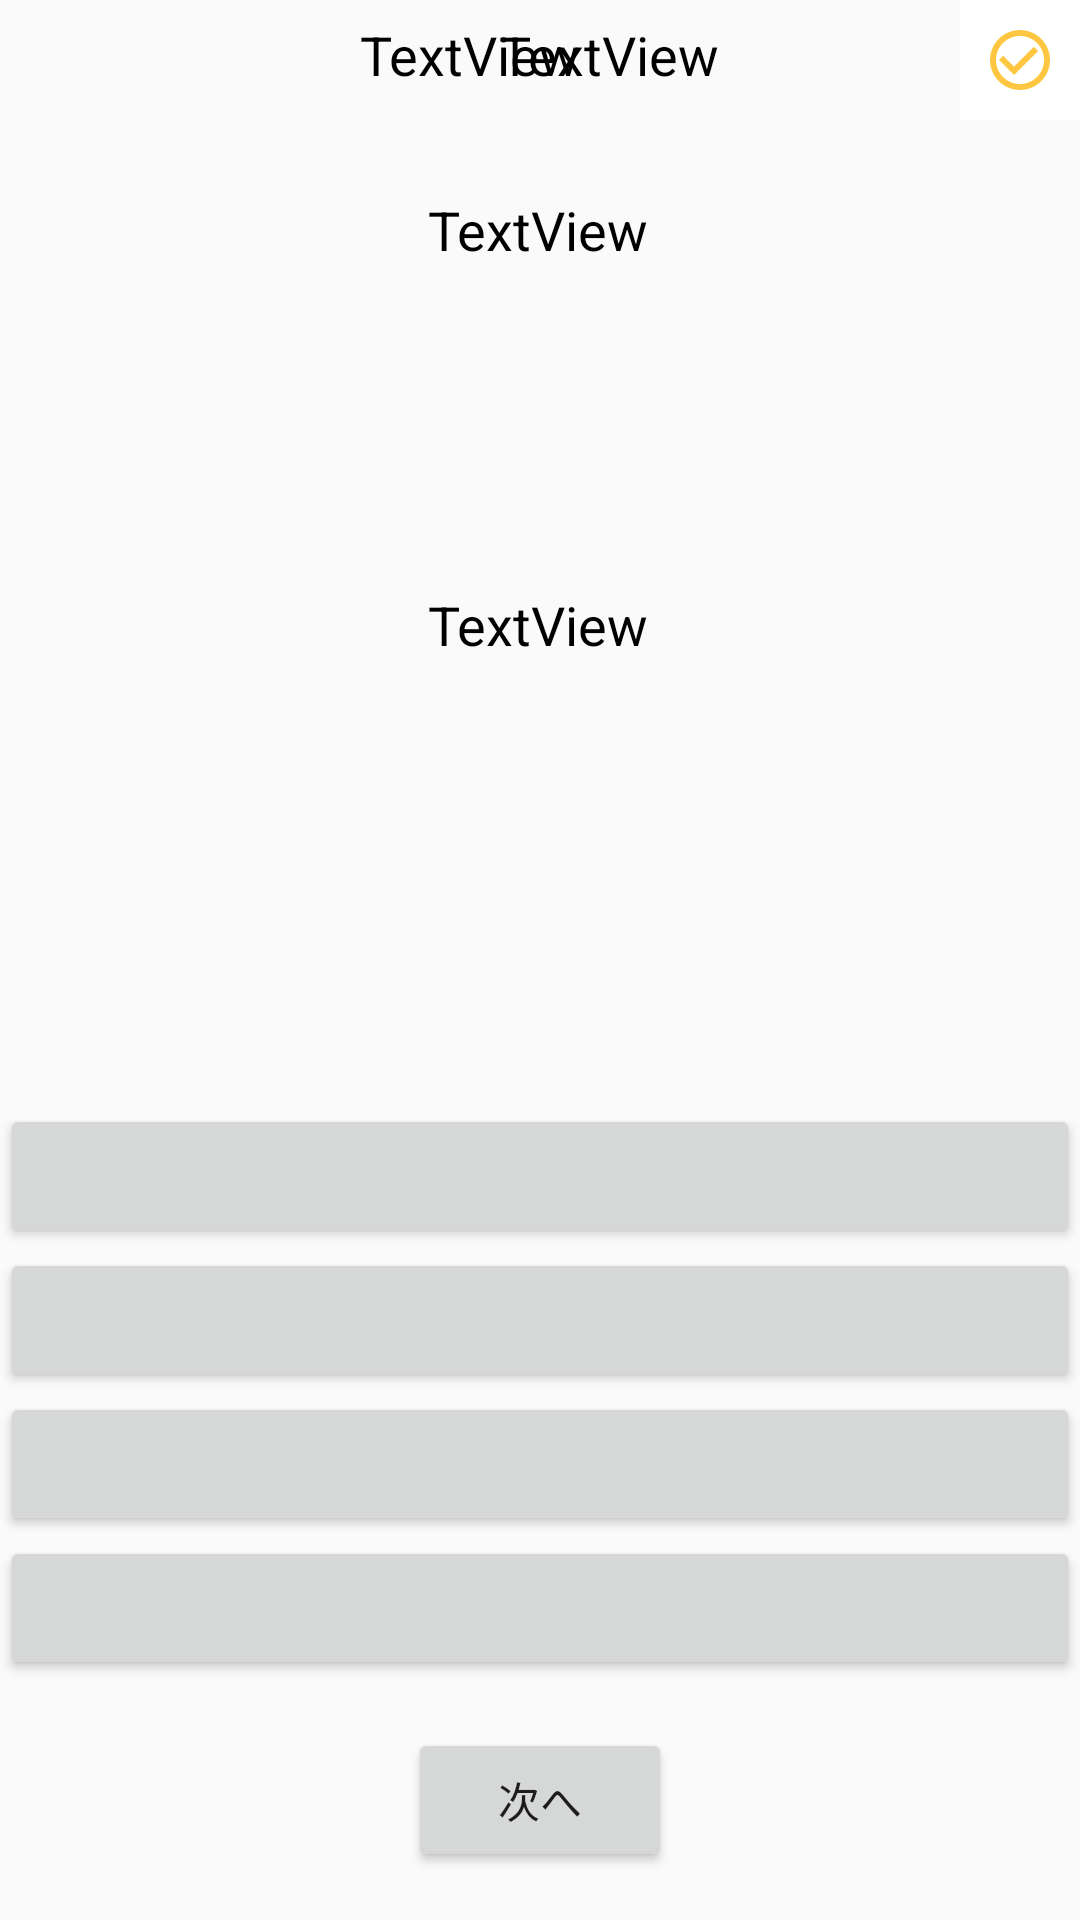

Icon bounding boxes for this 1080×1920 phone screenshot, format (x1=x1, y1=y1, x2=x2, y2=y2):
check circle: (x1=990, y1=30, x2=1050, y2=90)
